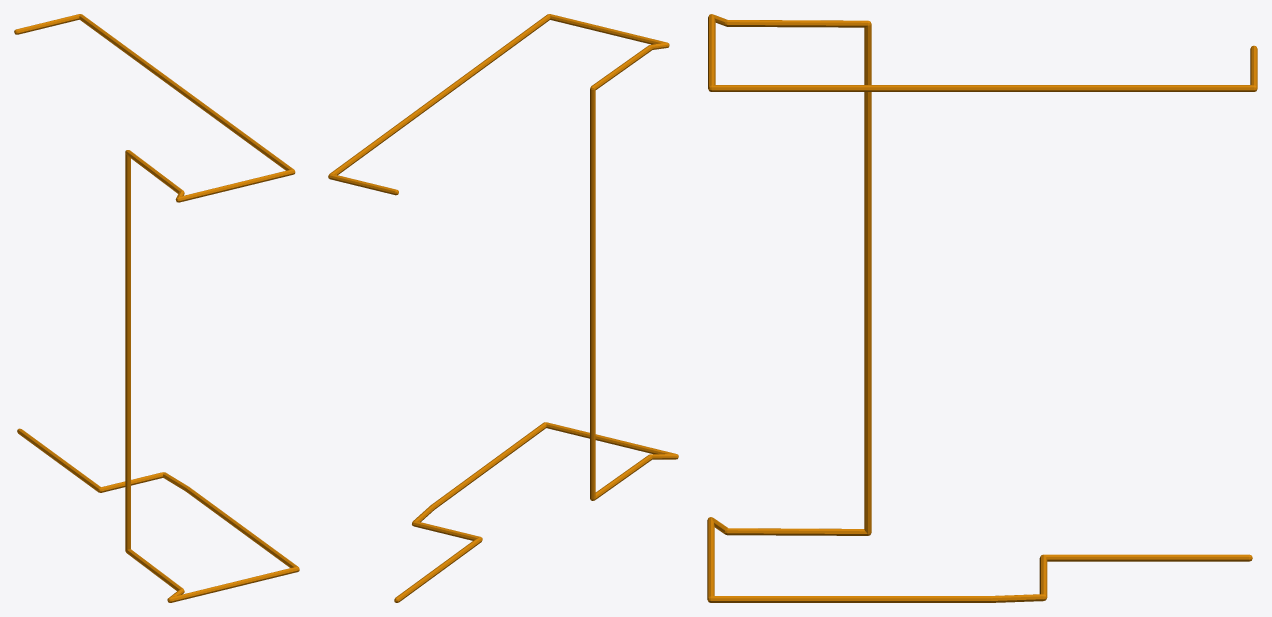
3 views of the same model, side by side, from view 1: azimuth 30°, elevation 25°; view 2: azimuth 150°, elevation 25°; view 3: azimuth 270°, elevation 25° (orthographic). The views are drawn at different scales.
Bounding box in the file's own units: 520 × 1520 × 1472.
